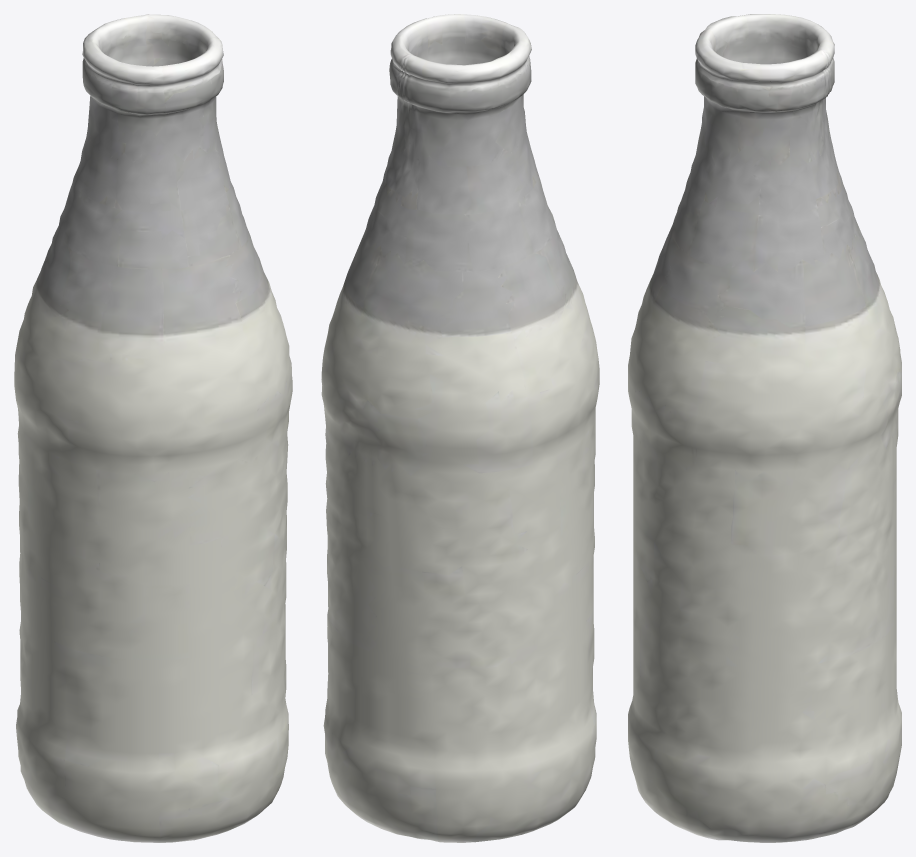
The model's file is milk.glb.
The picture shows the model from 3 angles, left to right: view 1: azimuth 30°, elevation 25°; view 2: azimuth 150°, elevation 25°; view 3: azimuth 270°, elevation 25°; orthographic projection.
Size of the model in its own units: 0.6223 by 1.91 by 0.6223.
Materials: 1 (1 with a texture image).
